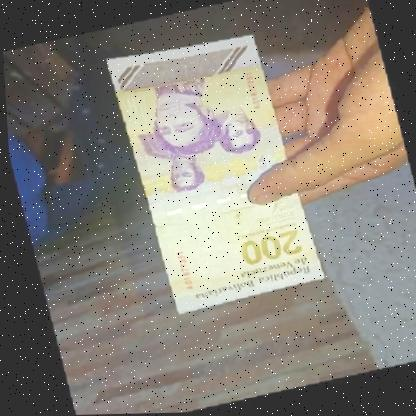two_hundred-front-vef: (101, 30, 324, 321)
